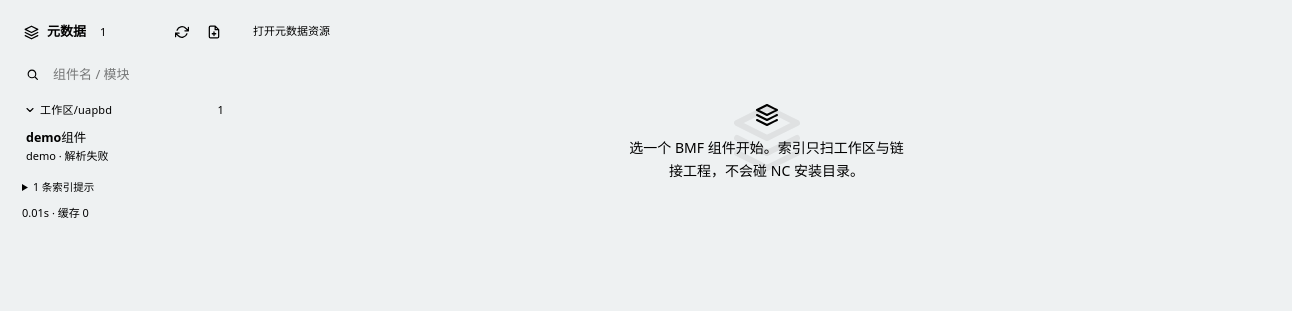
Test: 元数据页 › 「校验」会重新读盘，能从解析失败恢复
Click the button with class "meta-entry" at (124, 146), box [18, 124, 230, 168]
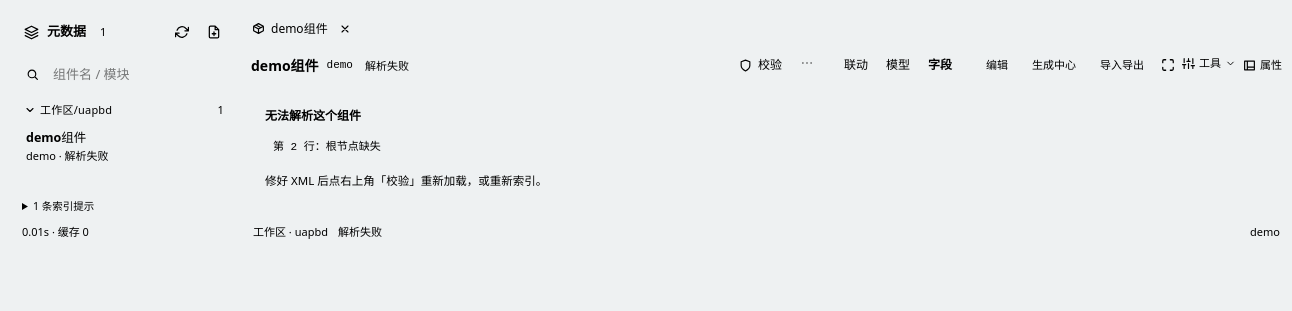
Check: the text "无法解析这个组件" is shown, box [265, 107, 361, 124]
Click the button "校验" at (760, 65), box [729, 51, 792, 79]
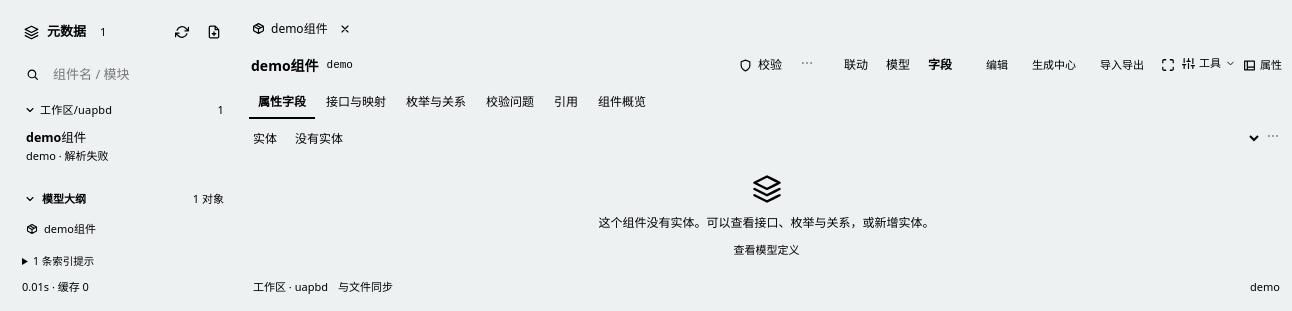
Check: the text "无法解析这个组件" is gone
Check: the text "属性字段" is shown, box [249, 85, 315, 119]
